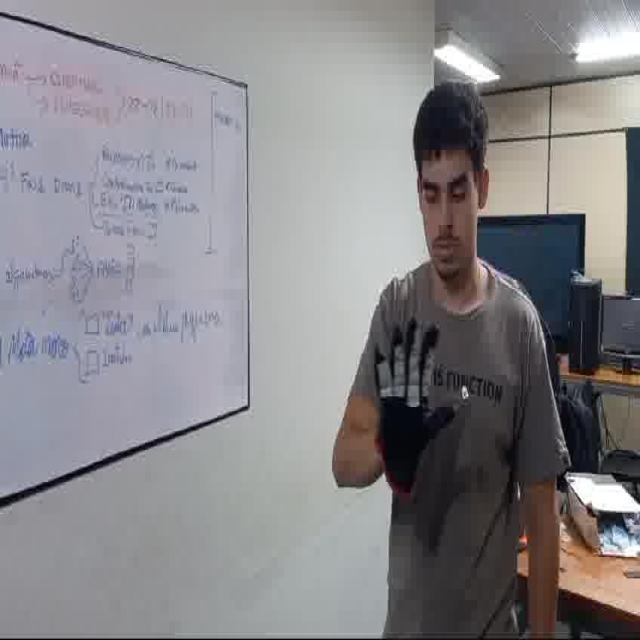Gloves: (368, 306, 476, 499)
